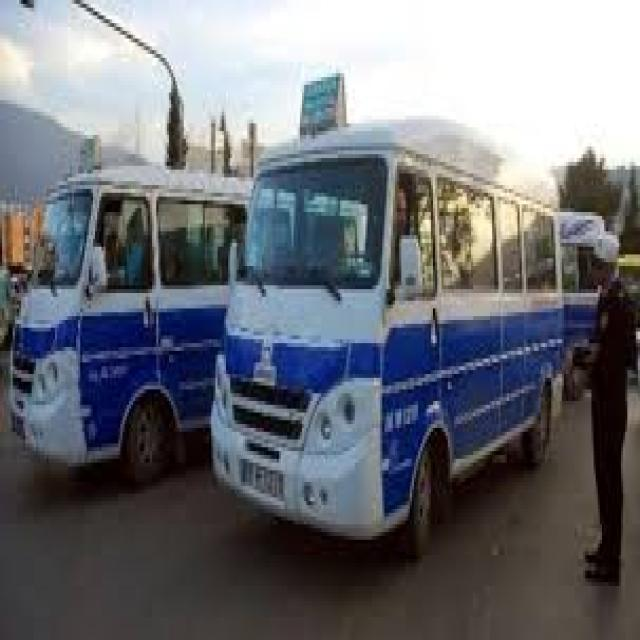bus: (212, 120, 561, 555), (11, 166, 251, 481), (560, 213, 606, 400)
